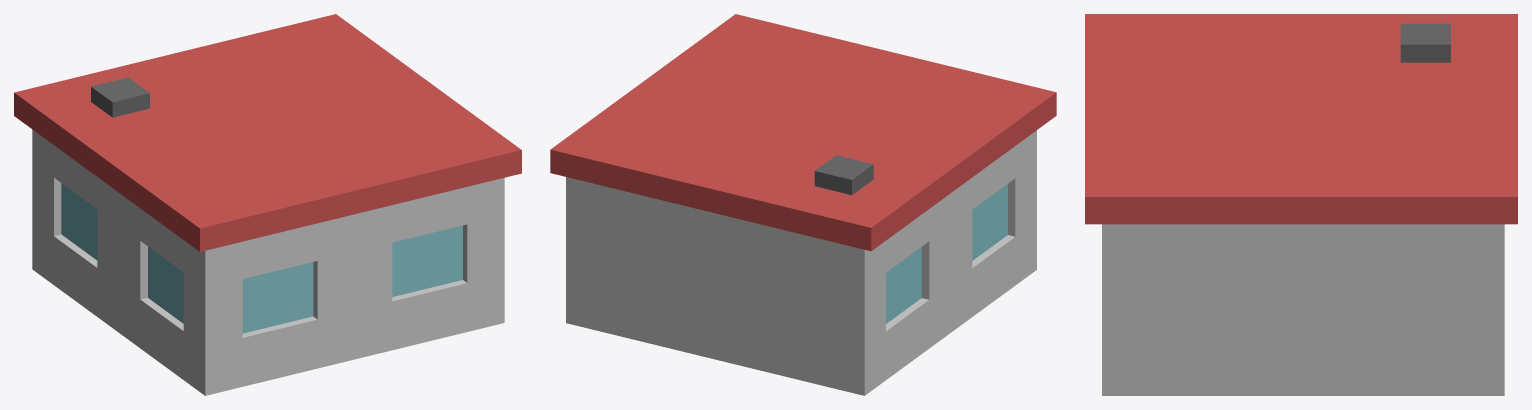
The model's file is TopBuilding.fbx.
3 renders of one model, left to right at view 1: azimuth 30°, elevation 25°; view 2: azimuth 150°, elevation 25°; view 3: azimuth 270°, elevation 25°, orthographic. The views are drawn at different scales.
Parts seen in each view (by area): view 1: Roof, Building, Cube; view 2: Roof, Building, Cube; view 3: Roof, Building, Cube.
Part boxes in pixels (x1=…): Roof: x1=14, y1=14, x2=521, y2=251; Building: x1=32, y1=129, x2=504, y2=395; Cube: x1=91, y1=77, x2=149, y2=117; Roof: x1=550, y1=14, x2=1056, y2=251; Building: x1=566, y1=130, x2=1036, y2=395; Cube: x1=814, y1=155, x2=873, y2=194; Roof: x1=1085, y1=14, x2=1517, y2=224; Building: x1=1102, y1=224, x2=1504, y2=395; Cube: x1=1400, y1=23, x2=1450, y2=62.
Bounding box in the file's own units: 860 × 488 × 860.
